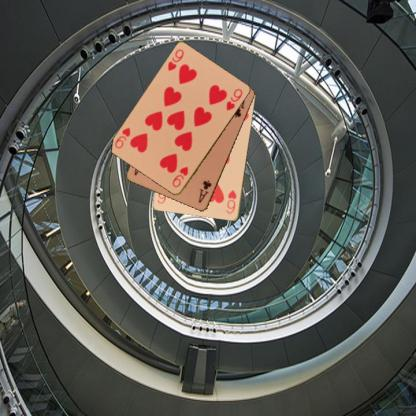6h: (224, 187, 238, 215)
9h: (170, 164, 190, 189), (166, 47, 186, 72)
Ac: (196, 178, 212, 204)
